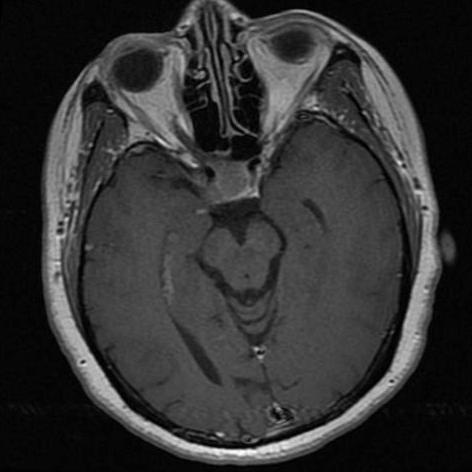Tumour-Pituitary: (194, 146, 279, 210)
